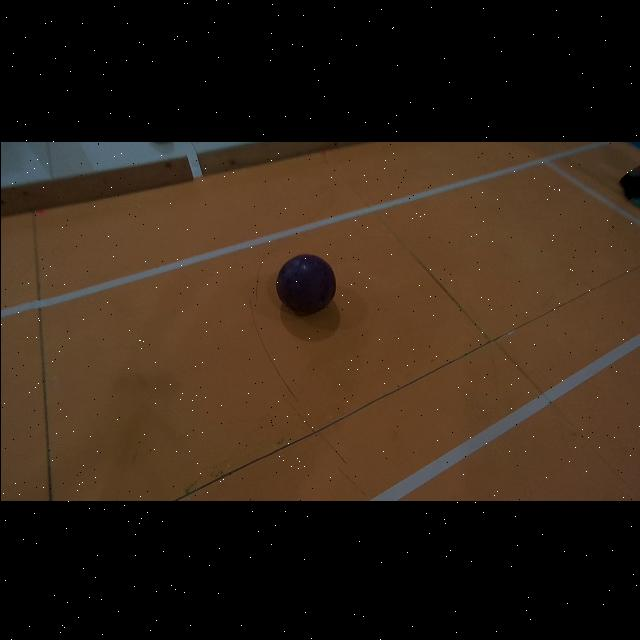P: (275, 253, 335, 313)
